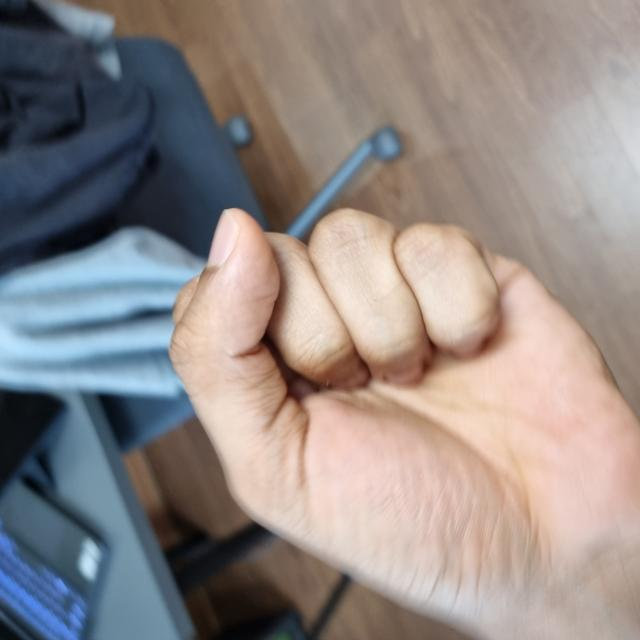Rock: (3, 169, 432, 638)
